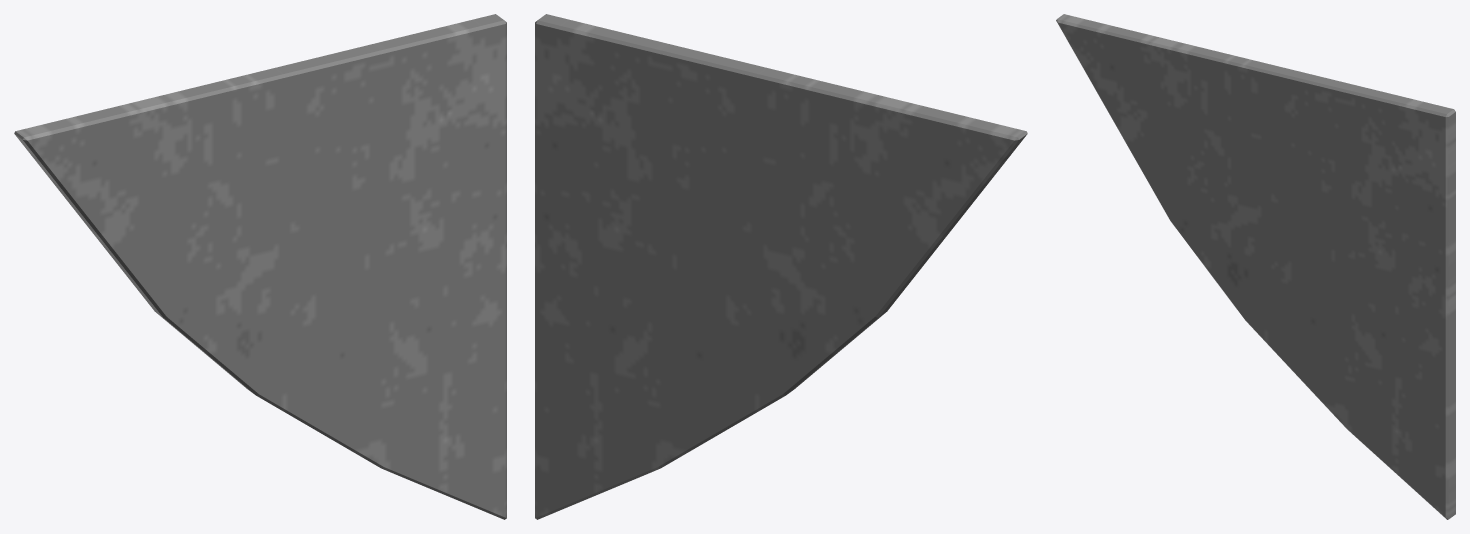
The model's file is f3_glass_detached_shard01_dirt_v10.glb.
The picture shows the model from 3 angles, left to right: view 1: azimuth 30°, elevation 25°; view 2: azimuth 150°, elevation 25°; view 3: azimuth 330°, elevation 25°; orthographic projection. The views are drawn at different scales.
Visible parts, largest first — view 1: F3_GLASS_DETACHED_SHARD01_V10; view 2: F3_GLASS_DETACHED_SHARD01_V10; view 3: F3_GLASS_DETACHED_SHARD01_V10.
Part boxes in pixels (x1,y1,x2,y2): F3_GLASS_DETACHED_SHARD01_V10: [14, 14, 506, 519]; F3_GLASS_DETACHED_SHARD01_V10: [535, 14, 1027, 519]; F3_GLASS_DETACHED_SHARD01_V10: [1056, 14, 1455, 519].
Bounding box in the file's own units: 0.1466 × 0.1446 × 0.006.
Materials: 1 (1 with a texture image).
